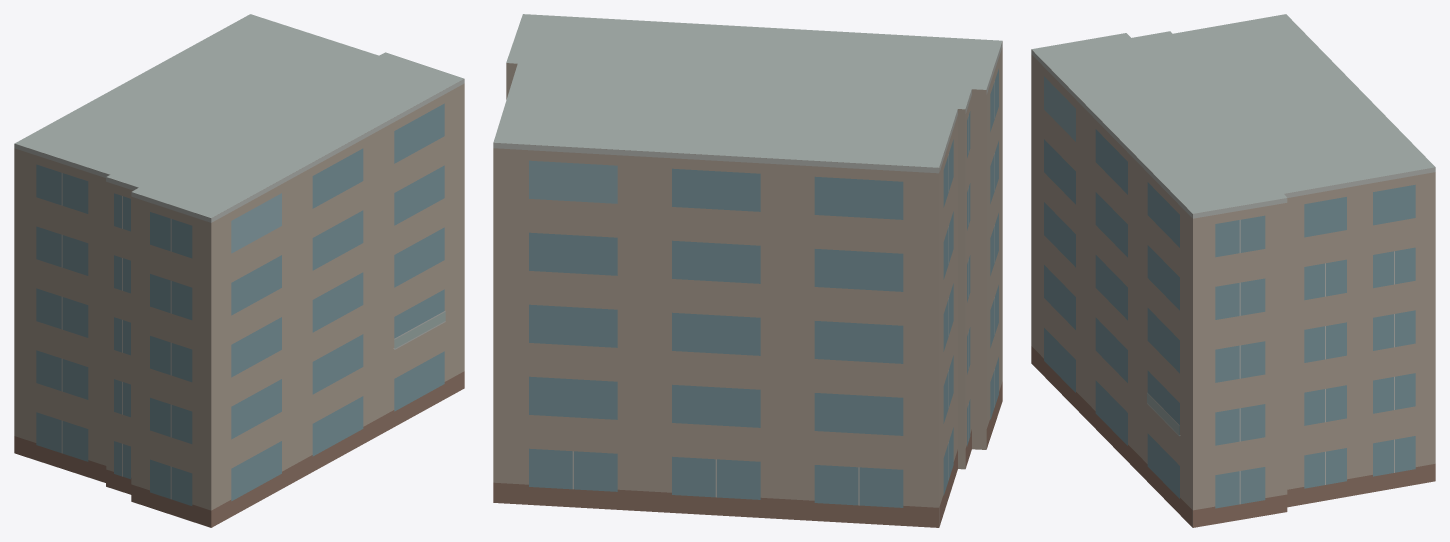
The model's file is survey-upis-32924161.glb.
3 views of the same model, side by side, from view 1: azimuth 30°, elevation 25°; view 2: azimuth 150°, elevation 25°; view 3: azimuth 270°, elevation 25° (orthographic). The views are drawn at different scales.
Visible parts, largest first — view 1: survey-upis-32924161.tmp; view 2: survey-upis-32924161.tmp; view 3: survey-upis-32924161.tmp.
Part boxes in pixels (x1,y1,x2,y2): survey-upis-32924161.tmp: [14, 14, 464, 527]; survey-upis-32924161.tmp: [493, 14, 1002, 527]; survey-upis-32924161.tmp: [1031, 14, 1435, 527].
Bounding box in the file's own units: 21.86 × 16 × 18.69.
